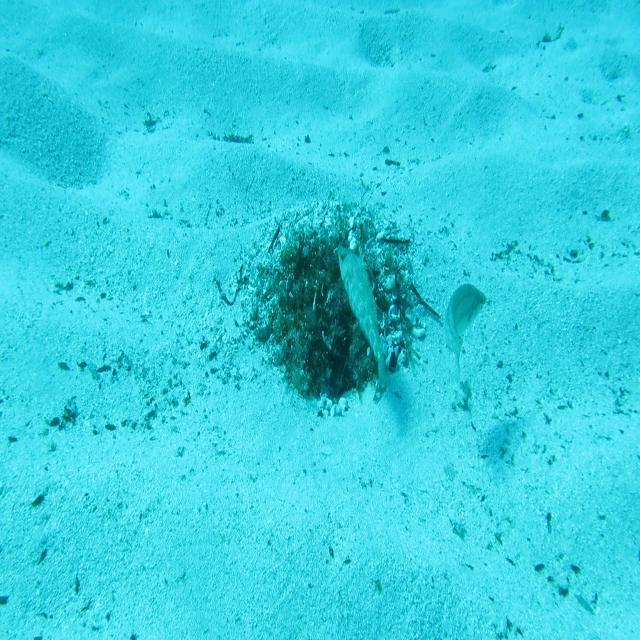ROLL: (330, 239, 392, 394)
core_nest: (309, 241, 366, 291)
female: (446, 282, 488, 381)
nest: (223, 189, 437, 431)
